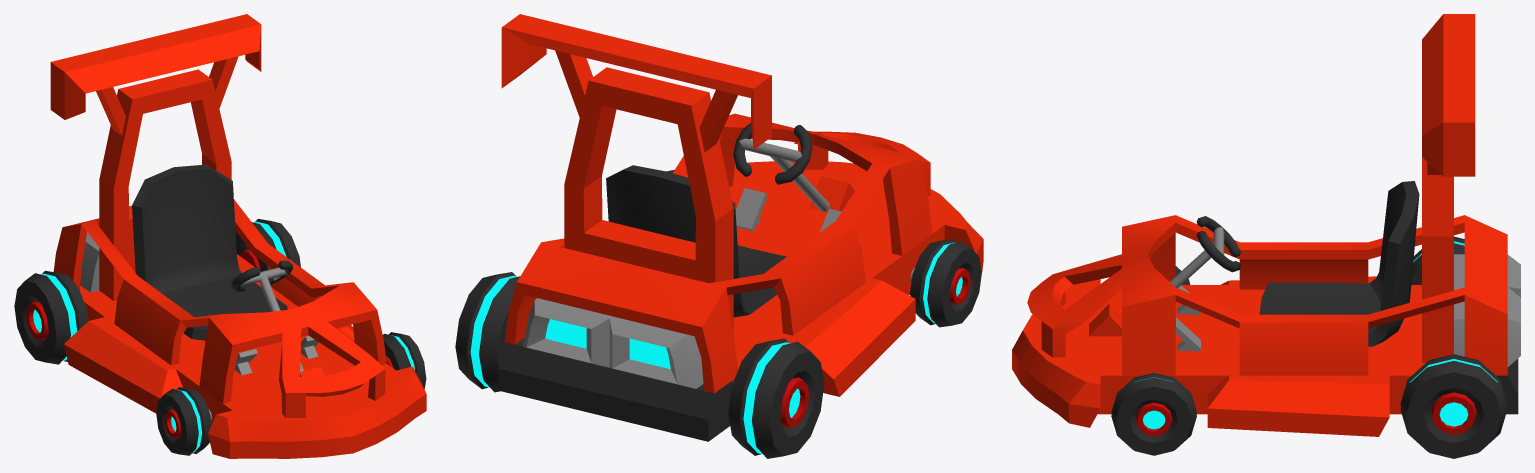
File: Sci-Fi Goblin Car.fbx
The picture shows the model from 3 angles, left to right: view 1: azimuth 30°, elevation 25°; view 2: azimuth 150°, elevation 25°; view 3: azimuth 270°, elevation 25°; orthographic projection. The views are drawn at different scales.
Parts seen in each view (by area): view 1: Bottom Chassis, Body Chassis, Seat, Rear Railing, Rear Railing.003, BR Wheel, FR Wheel, BL Wheel, FL Wheel, Steering Wheel, Back Booster.001, Foot Pedal.001; view 2: Bottom Chassis, Body Chassis, Rear Railing, Rear Railing.003, Back Booster.001, BR Wheel, Seat, FR Wheel, BL Wheel, Steering Wheel, Foot Pedal.001; view 3: Body Chassis, Bottom Chassis, BL Wheel, Seat, Rear Railing.003, Rear Railing, FL Wheel, Back Booster.001, Steering Wheel, Foot Pedal.001.
Boxes of the visible parts, x1,y1,x2,y2 form: Bottom Chassis: (64, 254, 426, 458); Body Chassis: (53, 199, 386, 417); Seat: (132, 164, 287, 340); Rear Railing: (96, 56, 238, 300); Rear Railing.003: (50, 14, 261, 119); BR Wheel: (14, 270, 88, 364); FR Wheel: (156, 387, 211, 455); BL Wheel: (235, 219, 300, 271); FL Wheel: (383, 332, 426, 388); Steering Wheel: (231, 260, 303, 371); Back Booster.001: (80, 232, 99, 292); Foot Pedal.001: (234, 336, 318, 375); Bottom Chassis: (498, 161, 983, 441); Body Chassis: (504, 113, 932, 393); Rear Railing: (555, 50, 737, 333); Rear Railing.003: (501, 14, 771, 149); Back Booster.001: (523, 298, 703, 388); BR Wheel: (728, 338, 824, 458); Seat: (606, 165, 786, 317); FR Wheel: (910, 239, 981, 327); BL Wheel: (455, 272, 519, 392); Steering Wheel: (733, 122, 829, 211); Foot Pedal.001: (735, 188, 841, 232); Body Chassis: (1027, 215, 1507, 375); Bottom Chassis: (1012, 276, 1518, 436); BL Wheel: (1400, 354, 1507, 458); Seat: (1259, 181, 1419, 346); Rear Railing.003: (1422, 14, 1475, 176); Rear Railing: (1422, 157, 1453, 362); FL Wheel: (1111, 373, 1196, 455); Back Booster.001: (1454, 254, 1520, 366); Steering Wheel: (1170, 216, 1240, 287); Foot Pedal.001: (1175, 285, 1200, 352).
Size of the model in its own units: 1.5 by 1.69 by 2.38.
